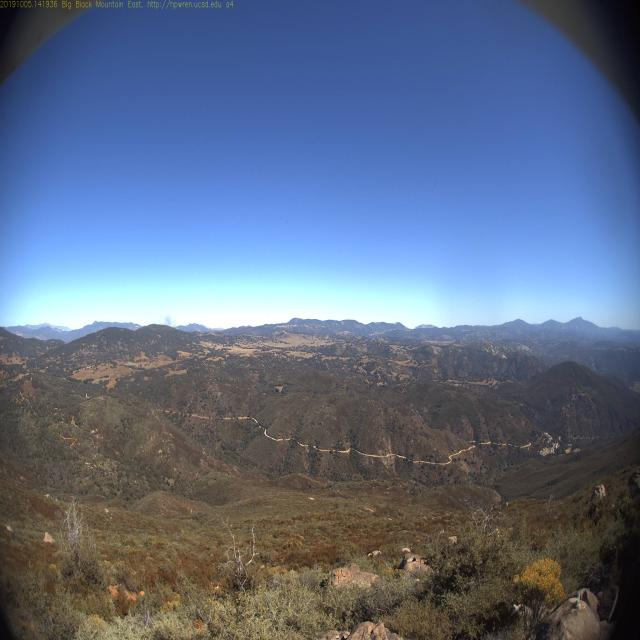smoke: (160, 307, 173, 330)
